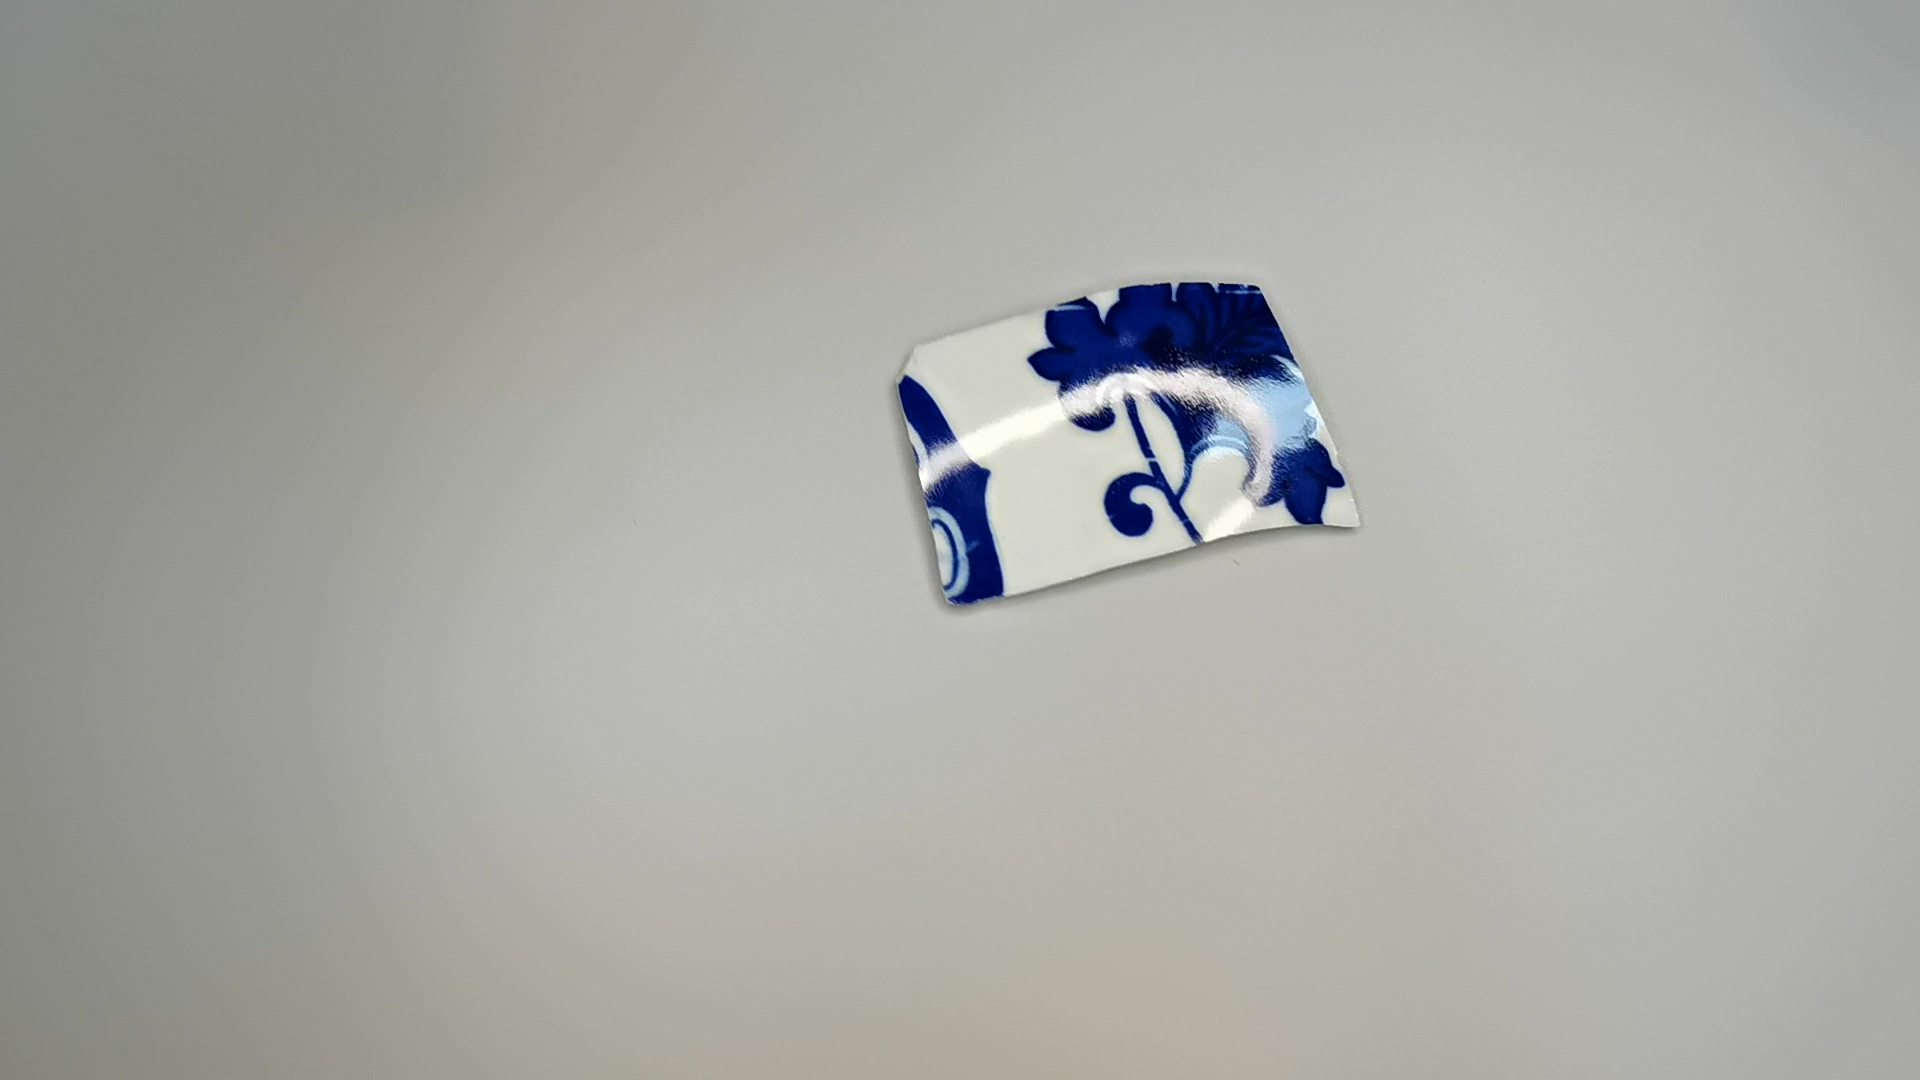ceramic: (886, 278, 1377, 607)
